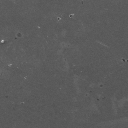corrosion: (1, 39, 5, 44), (69, 14, 74, 18)
